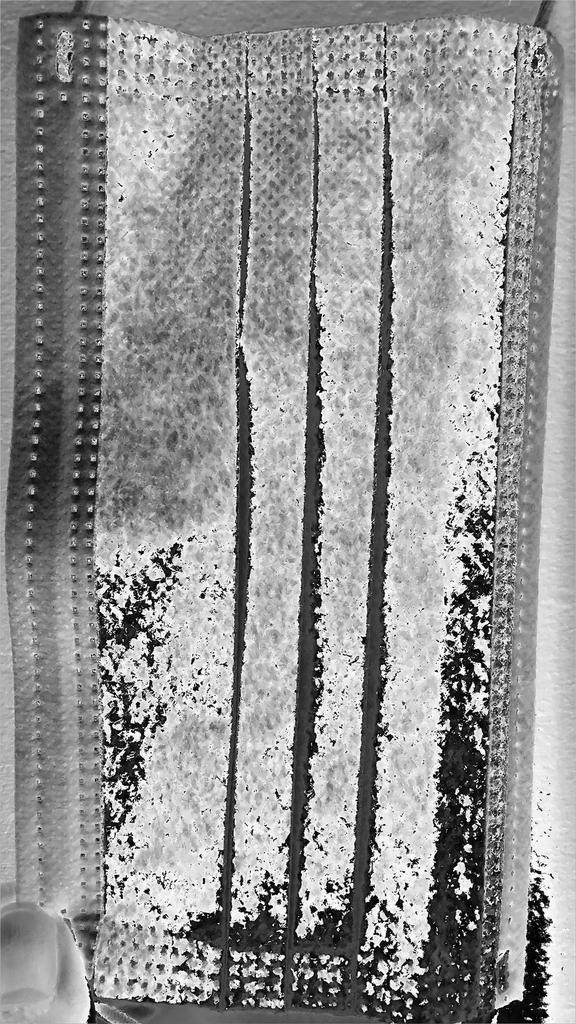High GSM: (98, 8, 564, 1024)
